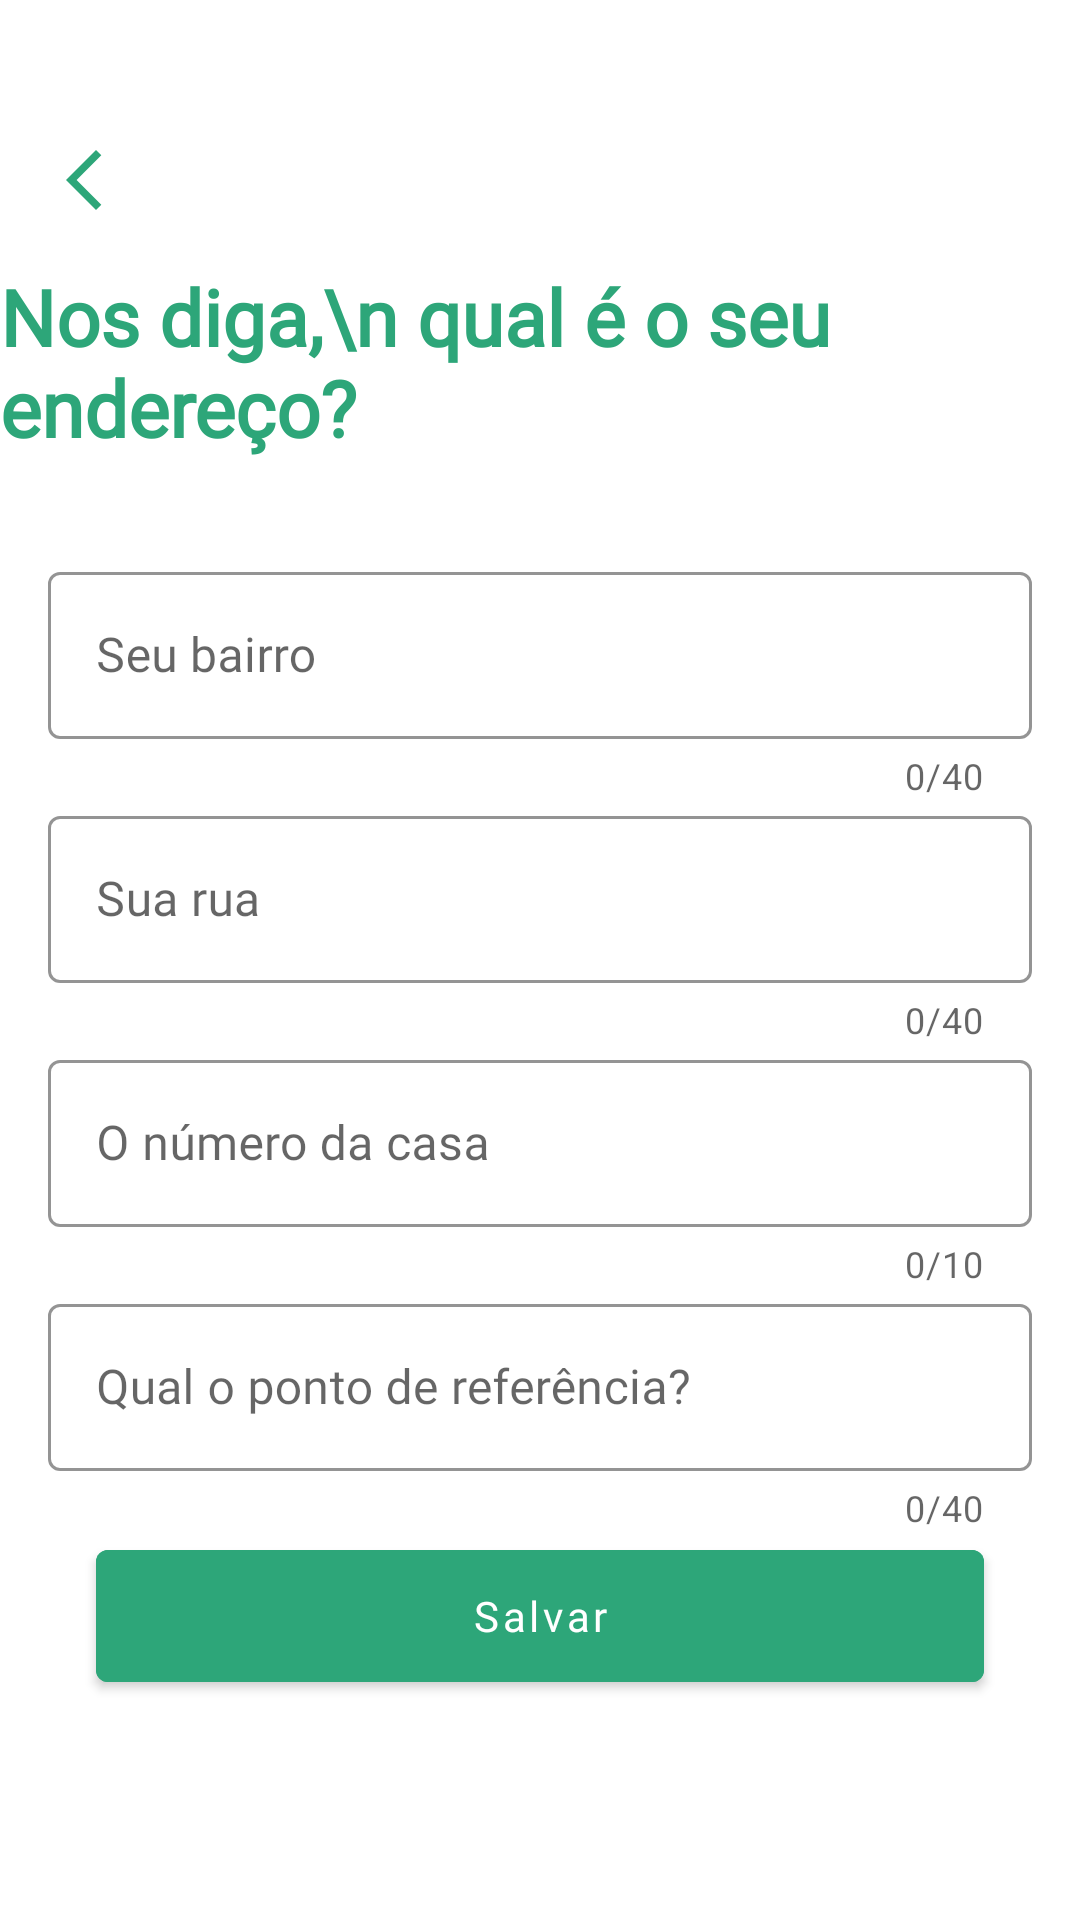

Icon click points for this 1080px×1920px phone screenshot, format (x,y):
arrow back: (83,180)
